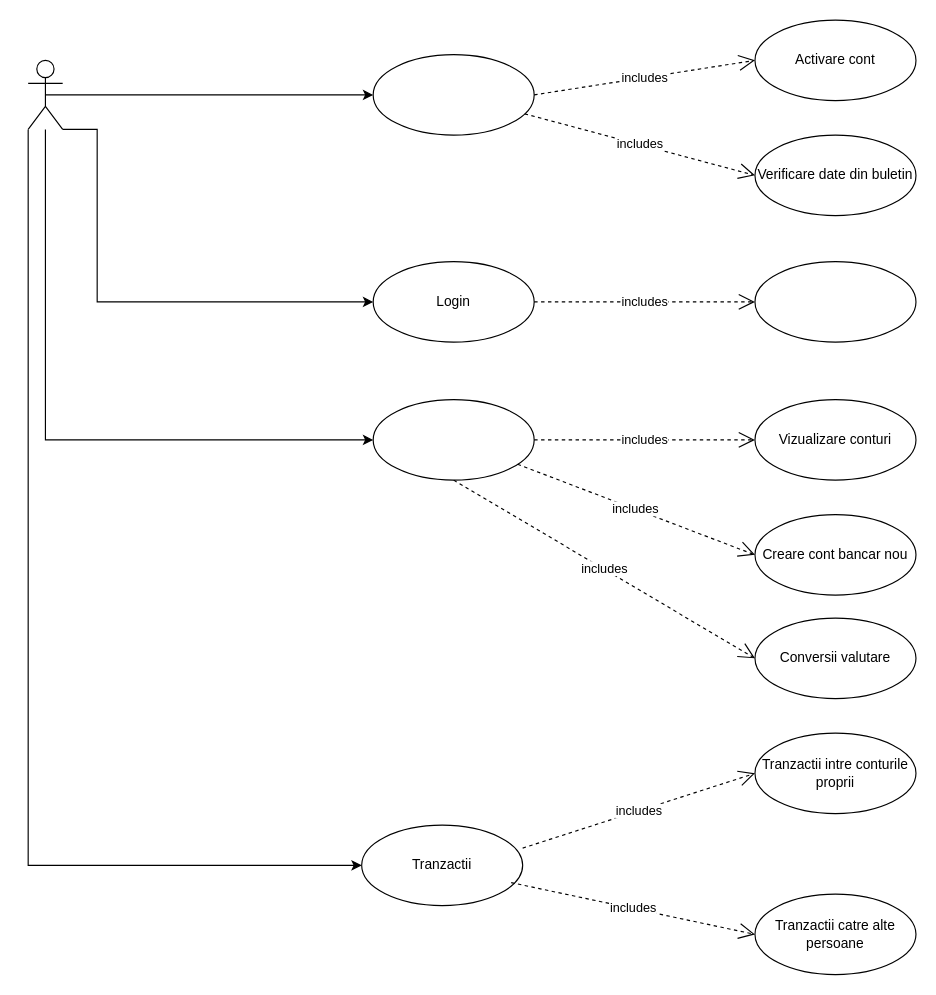
Image size: 936x995. Some labels were removed from this diagram. The box of each missing label's shape, as (x1, y1, x2, y2) in pixels:
Client: (27, 59, 63, 129)
Creare cont: (372, 53, 534, 135)
Gestionare conturi: (372, 398, 534, 480)
Verificare OTP: (754, 260, 916, 342)
